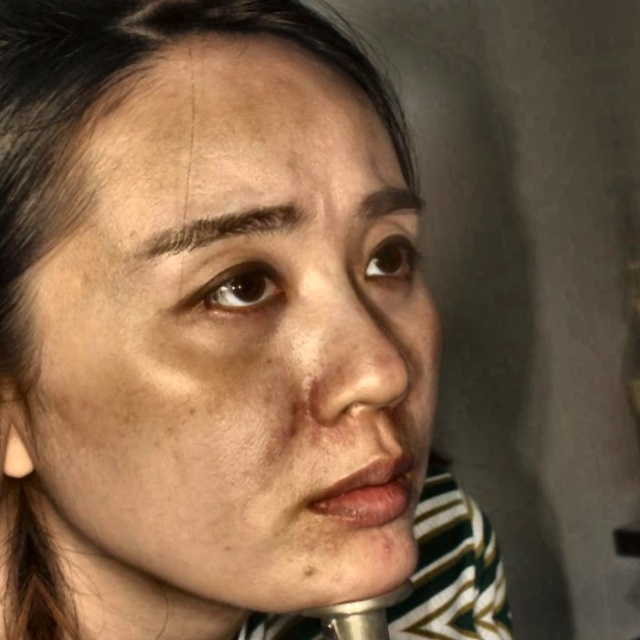comedone: (278, 402, 307, 452), (374, 529, 397, 562)
